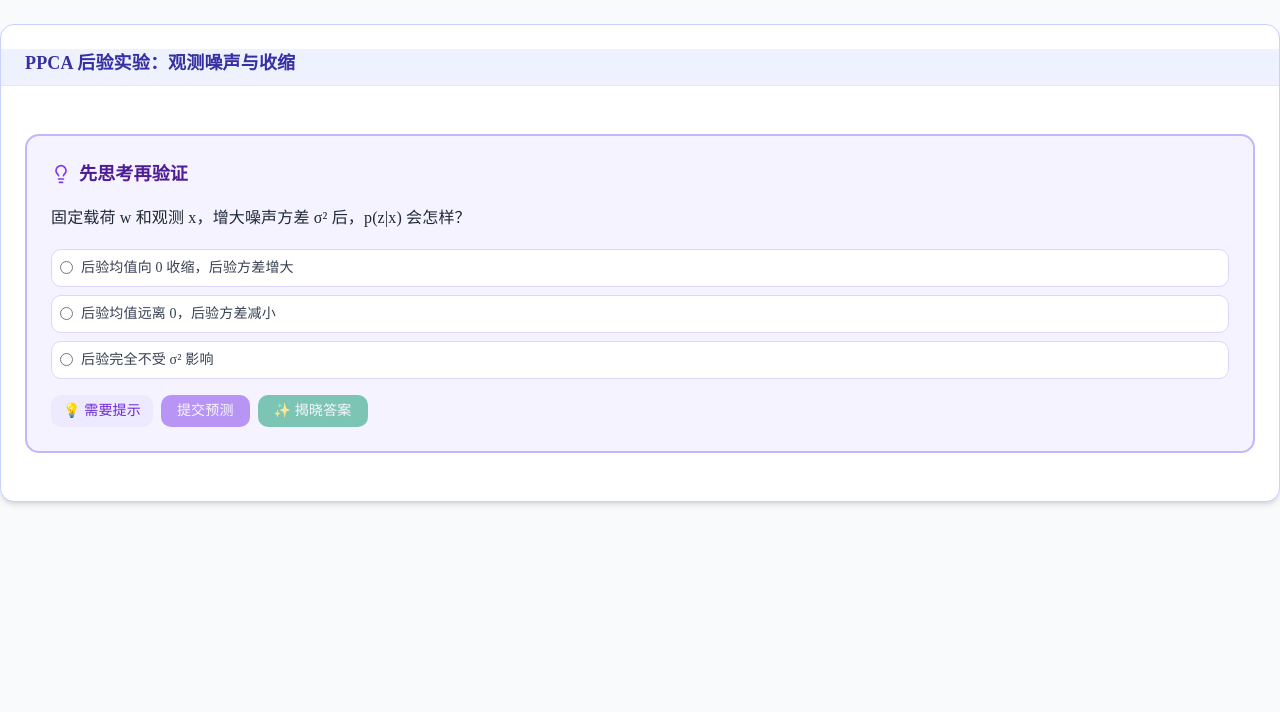
Test case: chapter 13 continuous latent variables teaching-ready loop › gates the elbo lab until a prediction is submitted
Click the radio button labelled "后验均值向 0 收缩，后验方差增大" at [66, 268], box [60, 261, 73, 274]
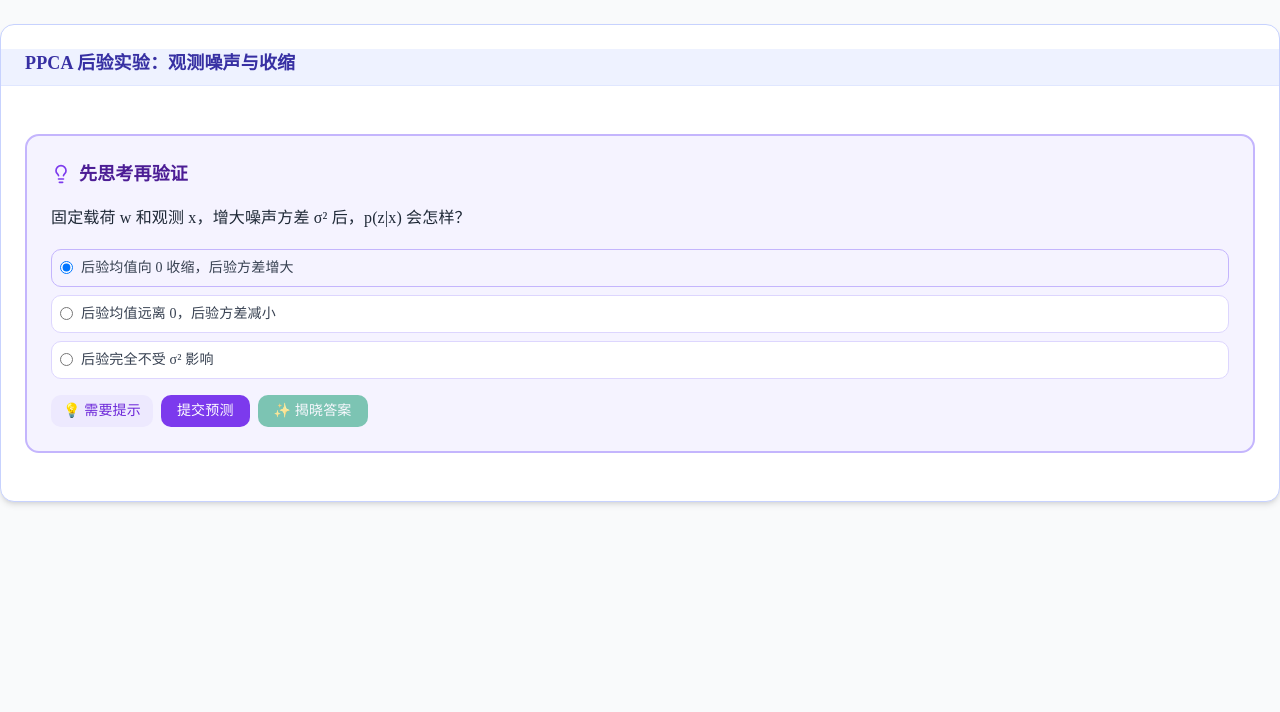
Click the button "提交预测" at [205, 411], box [161, 395, 250, 427]
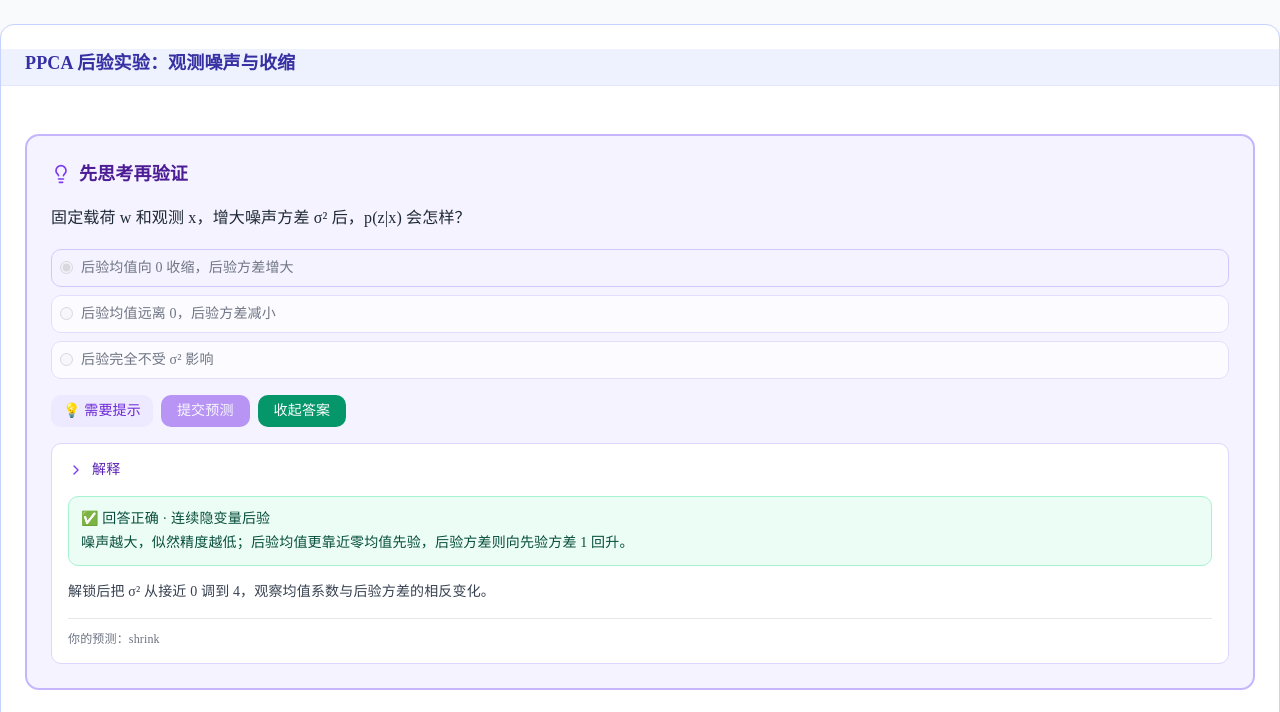
Expected: the element with test id "evaluation-feedback" shows "回答正确", [81, 511, 159, 526]
